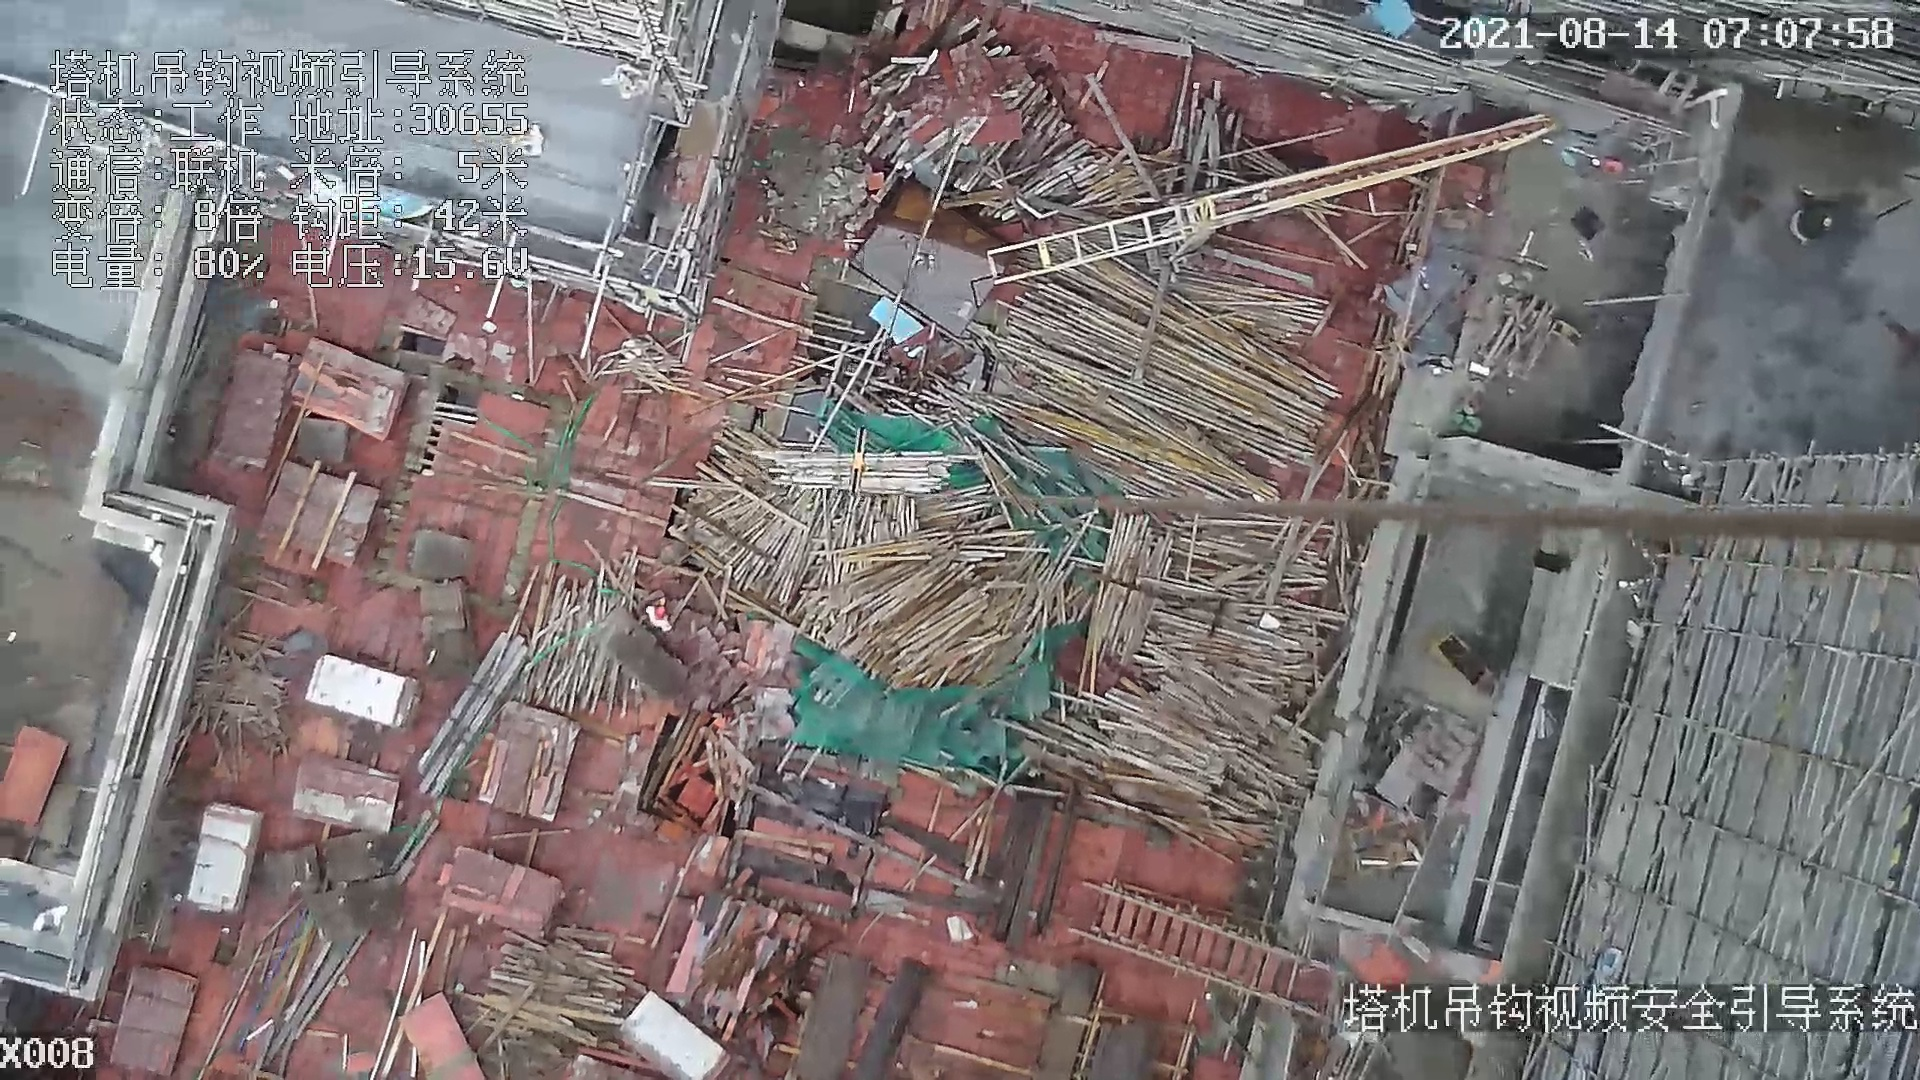hook: (844, 425, 872, 508)
